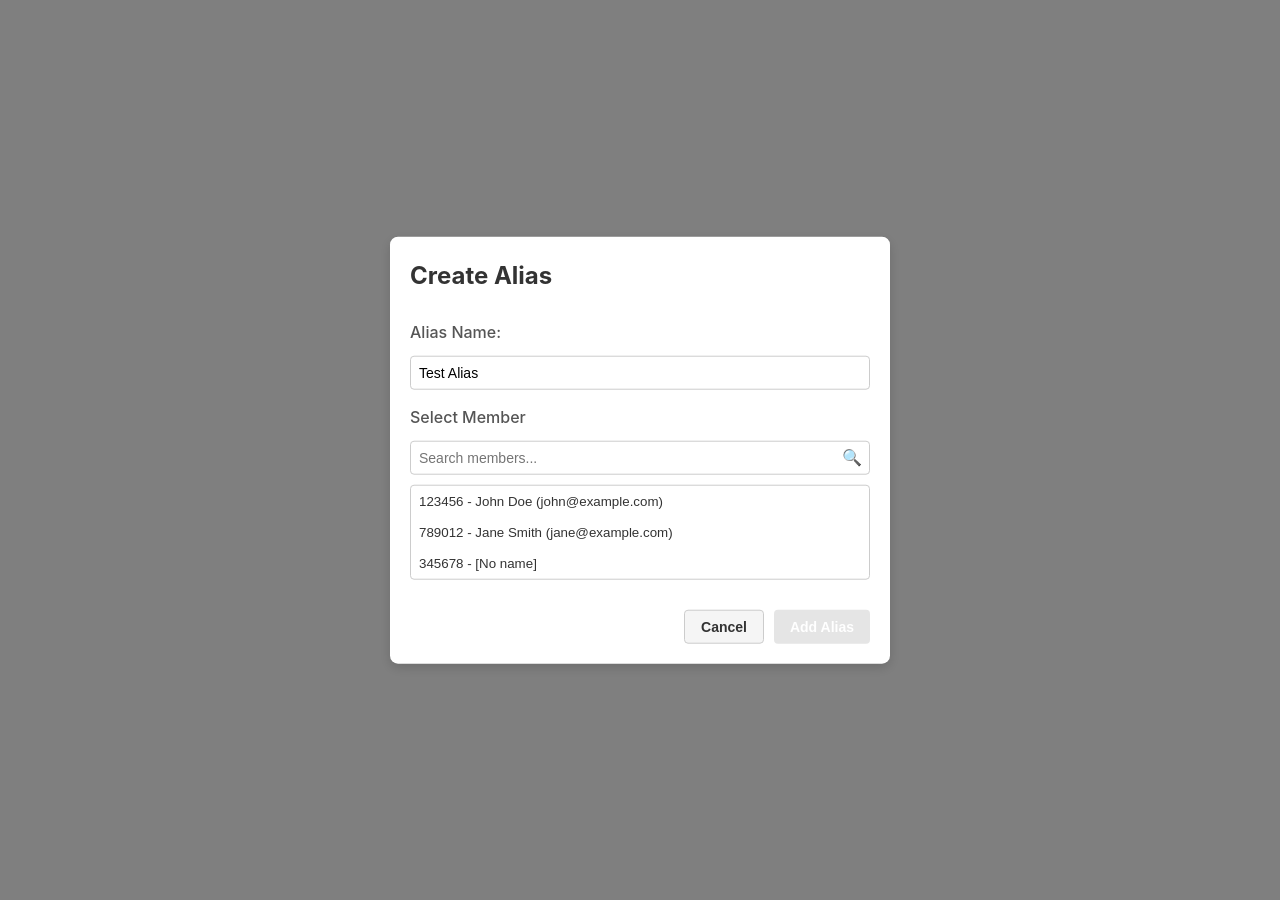
Test case: AliasModal › filters members based on search input
The width and height of the screenshot is (1280, 900).
Type "john" into the field with placeholder "Search members..." at (640,457), box [410,440,870,474]
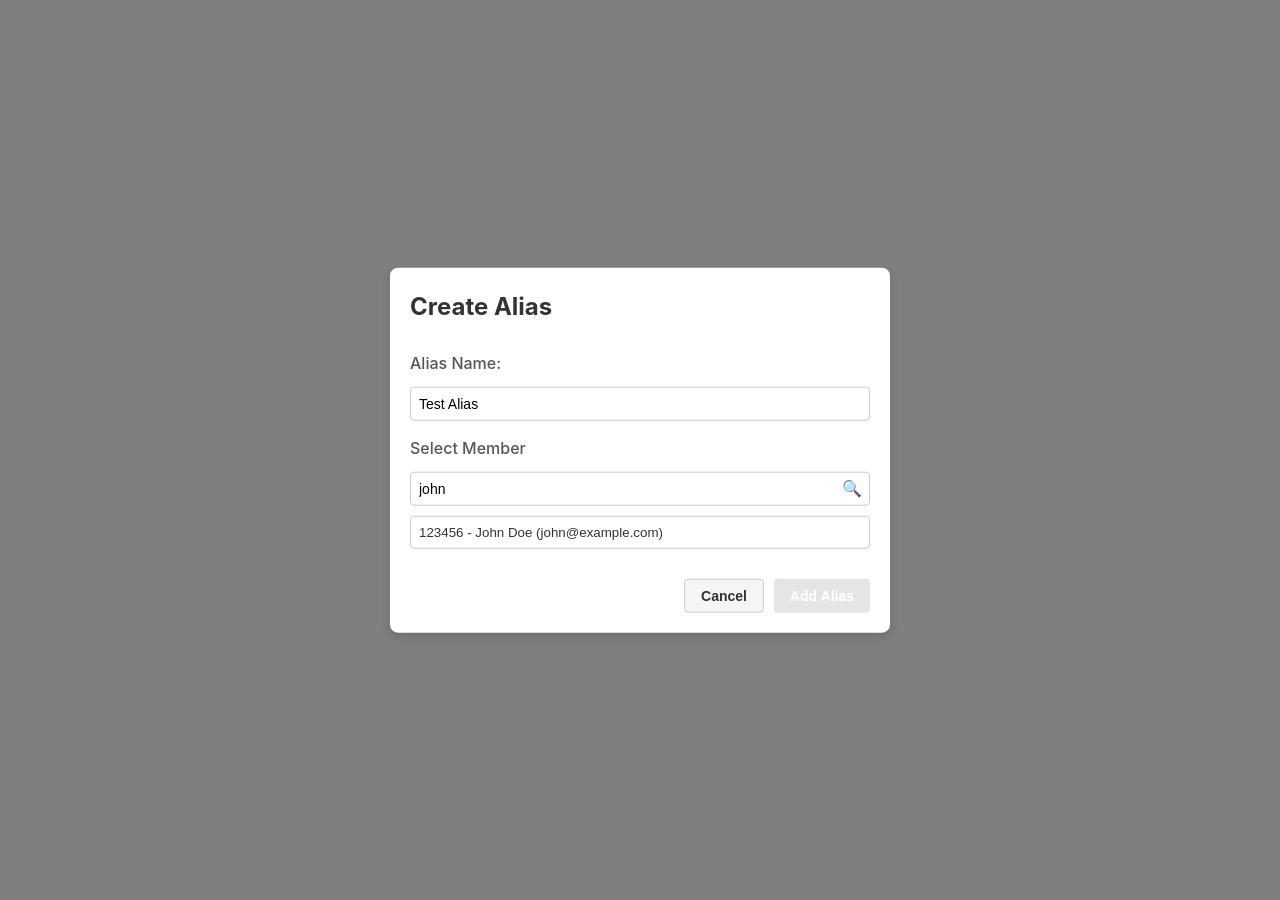
Expected: the button "123456 - John Doe (john@example.com)" is shown, [411,516,869,547]
Expected: the button "789012 - Jane Smith (jane@example.com)" is gone
